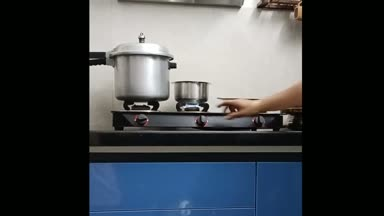flame_gas_off: (122, 100, 159, 126)
flame_gas_on: (177, 101, 209, 127)
